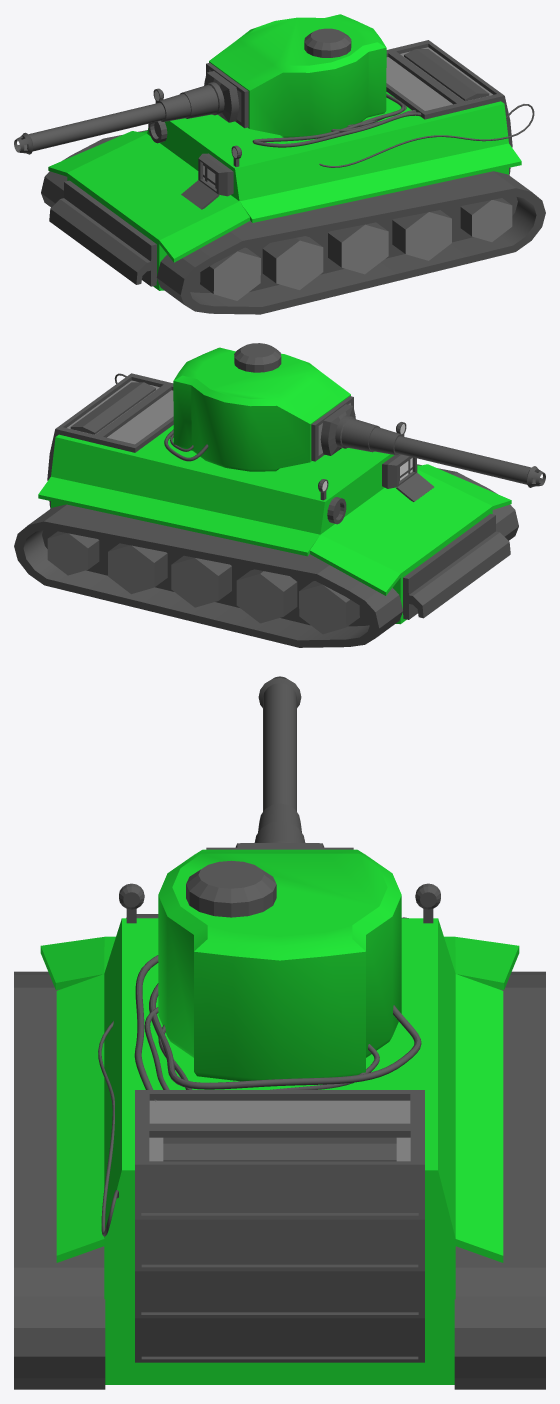
File: tank.fbx
3 renders of one model, top to bottom at view 1: azimuth 30°, elevation 25°; view 2: azimuth 150°, elevation 25°; view 3: azimuth 270°, elevation 25°, orthographic. The views are drawn at different scales.
Parts seen in each view (by area): view 1: body_1, wheels, head_1, gun_1; view 2: body_1, wheels, head_1, gun_1; view 3: body_1, head_1, wheels, gun_1.
Boxes of the visible parts, x1=… form: body_1: x1=48, y1=40, x2=534, y2=290; wheels: x1=41, y1=130, x2=545, y2=314; head_1: x1=206, y1=14, x2=386, y2=137; gun_1: x1=14, y1=71, x2=239, y2=154; body_1: x1=38, y1=373, x2=511, y2=624; wheels: x1=14, y1=464, x2=518, y2=647; head_1: x1=173, y1=343, x2=353, y2=471; gun_1: x1=320, y1=404, x2=545, y2=487; body_1: x1=40, y1=883, x2=519, y2=1384; head_1: x1=158, y1=847, x2=401, y2=1081; wheels: x1=14, y1=971, x2=545, y2=1389; gun_1: x1=235, y1=676, x2=324, y2=847.
Bounding box in the file's own units: 1181 × 494 × 606.
